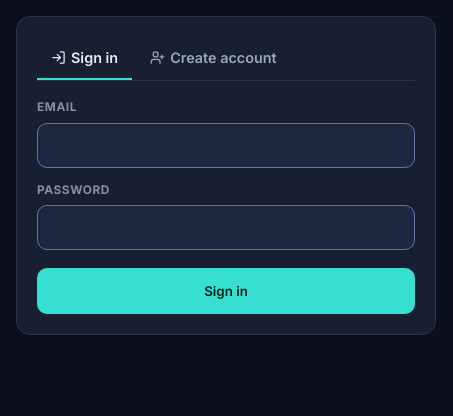
Test: AuthPanel — sign in › shows the rejection reason, retains the email, and stays anonymous on failure
In the field labelled "Email": (226, 145) [37,123,415,168], type "user@example.com"
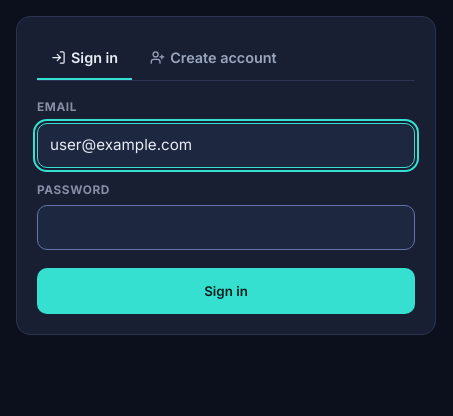
In the password field labelled "Password": (226, 228) [37,205,415,250], type "password123"
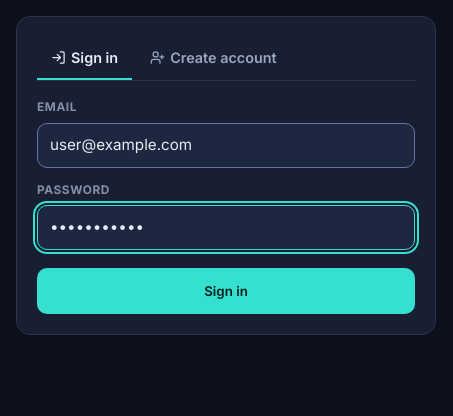
Click the button "Sign in" below "Password": (226, 291) [37,268,415,314]
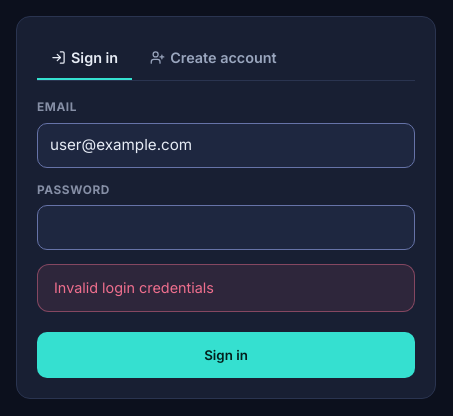
Expected: the button "Sign in" below "Invalid login credentials" is enabled, [37,332,415,378]
Now the text "Invalid login credentials" is shown, box [37,264,415,312]
Now the password field labelled "Password" is empty, box [37,205,415,250]
